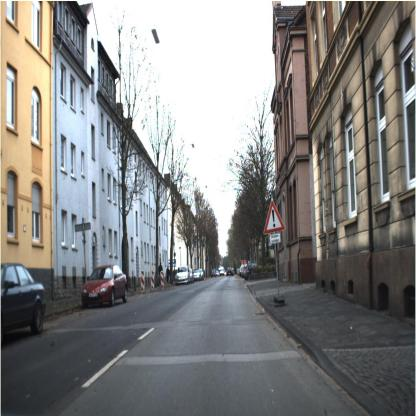danger: (259, 196, 288, 240)
